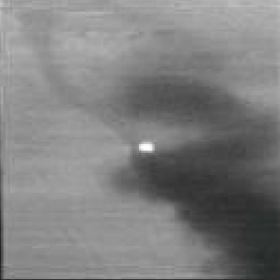Target: (139, 142, 154, 151)
